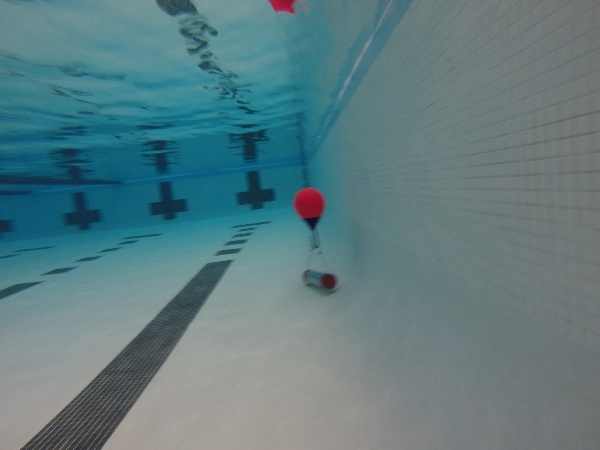buoy_red: (291, 188, 328, 230)
